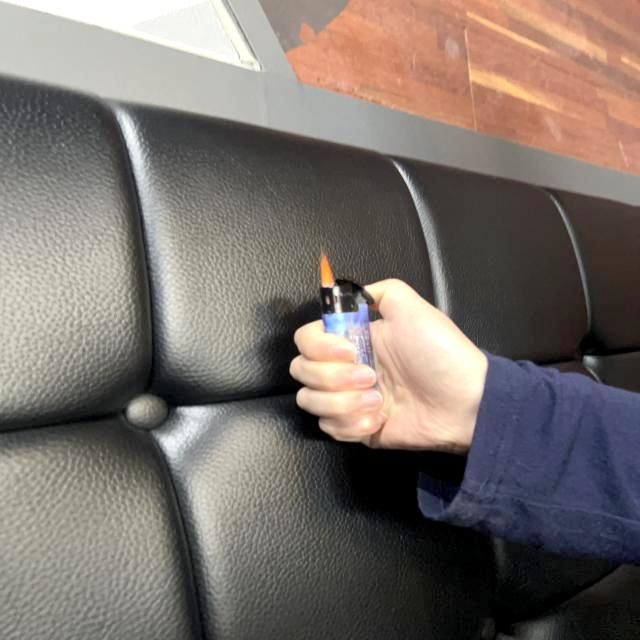fire: (319, 249, 336, 287)
